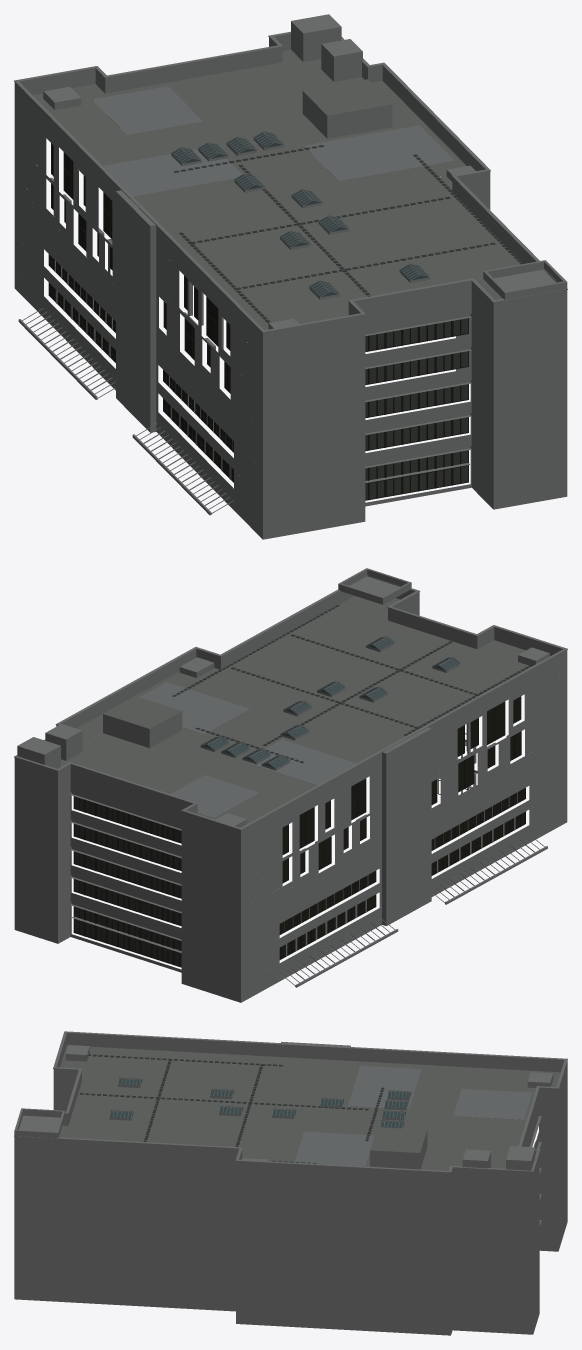
3 views of the same model, one above another, from view 1: azimuth 30°, elevation 25°; view 2: azimuth 150°, elevation 25°; view 3: azimuth 270°, elevation 25° (orthographic). The views are drawn at different scales.
Visible parts, largest first — view 1: opaque, glass; view 2: opaque, glass; view 3: opaque, glass.
Part boxes in pixels (x1,y1,x2,y2): opaque: [14, 14, 567, 539]; glass: [49, 132, 468, 499]; opaque: [14, 568, 567, 1002]; glass: [74, 637, 524, 966]; opaque: [14, 1031, 567, 1335]; glass: [109, 1077, 411, 1128].
Bounding box in the file's own units: 53.3 × 29.3 × 85.06.
Materials: 3 (3 with a texture image).
